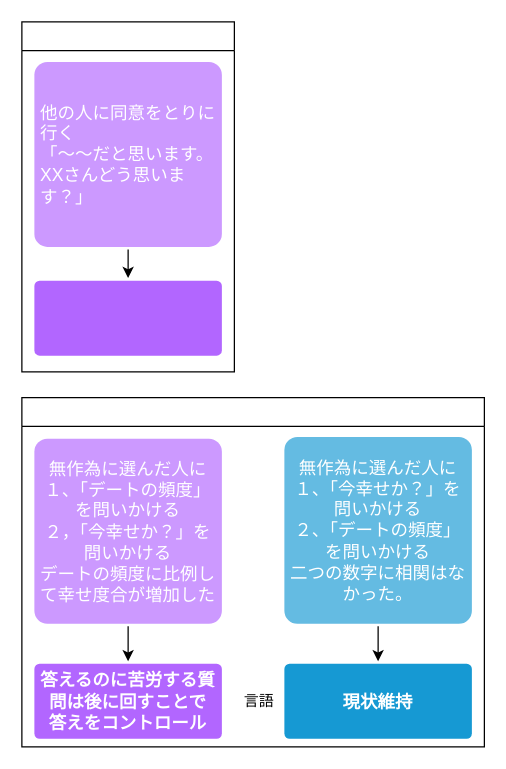
Image size: 506x769. Some labels were removed from this diagram. The shapes that lost their labels are listed below. From the top down, each one's box as (x1, y1, x2, y2) in pixels, then its label:
(21, 21, 234, 372): 責任分散
(34, 280, 221, 355): 行動の一貫性の誘発 責任を発生させる
(21, 396, 484, 747): 質問の順番
